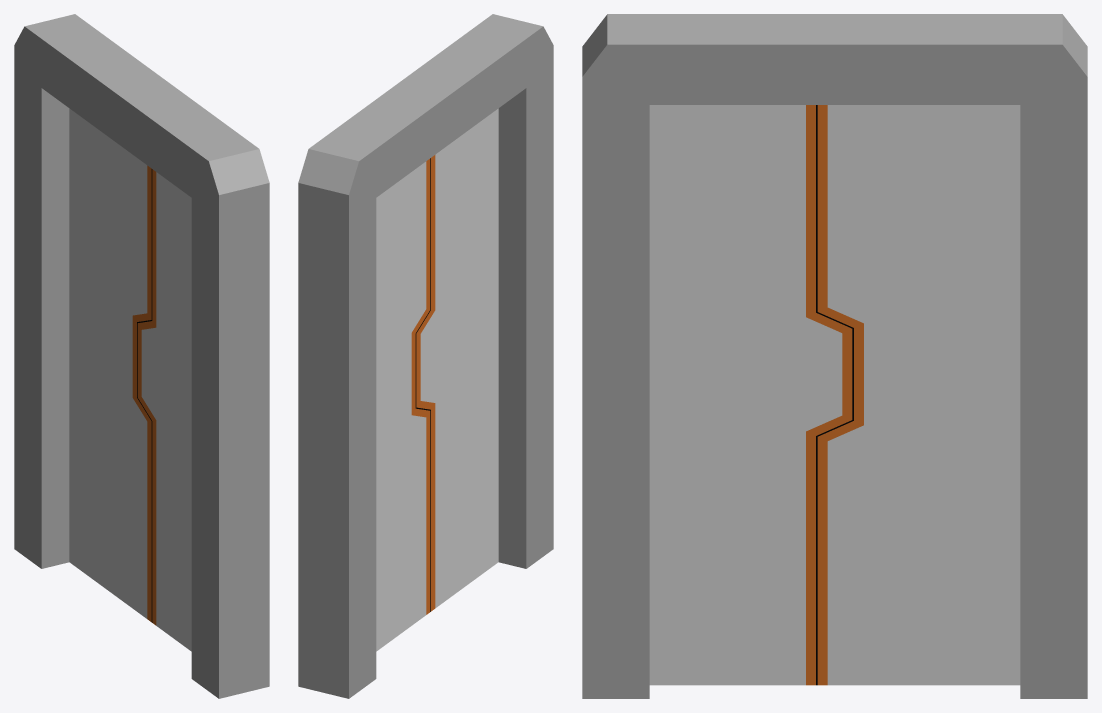
The model's file is Porta_02.fbx.
The picture shows the model from 3 angles, left to right: view 1: azimuth 30°, elevation 25°; view 2: azimuth 150°, elevation 25°; view 3: azimuth 270°, elevation 25°; orthographic projection. The views are drawn at different scales.
Parts seen in each view (by area): view 1: Porta.001, Porta.003; view 2: Porta.001, Porta.003; view 3: Porta.003, Porta.001.
Boxes of the visible parts, x1,y1,x2,y2 form: Porta.001: (14,14,269,698); Porta.003: (69,108,191,651); Porta.001: (298,14,553,698); Porta.003: (376,108,498,651); Porta.003: (649,105,1020,685); Porta.001: (582,14,1087,698).
Bounding box in the file's own units: 0.2 × 1.4 × 2.
